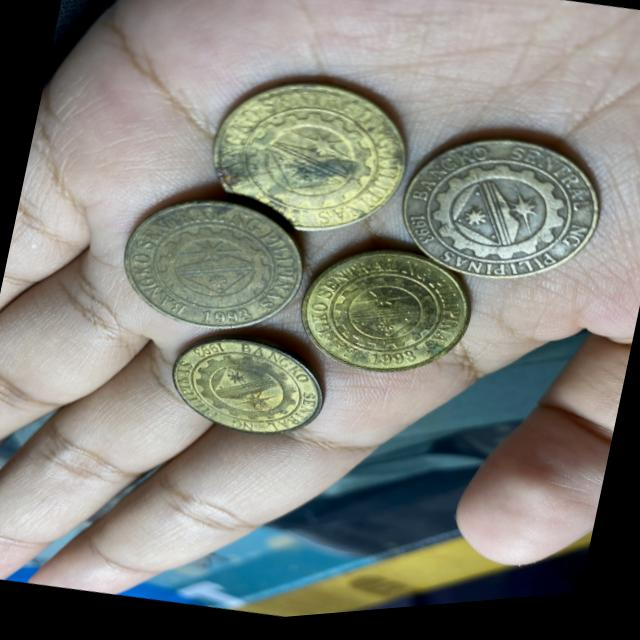25Cent_Old_Back: (210, 67, 416, 247), (404, 135, 606, 306), (116, 195, 306, 347), (292, 243, 473, 396), (166, 326, 325, 456)
